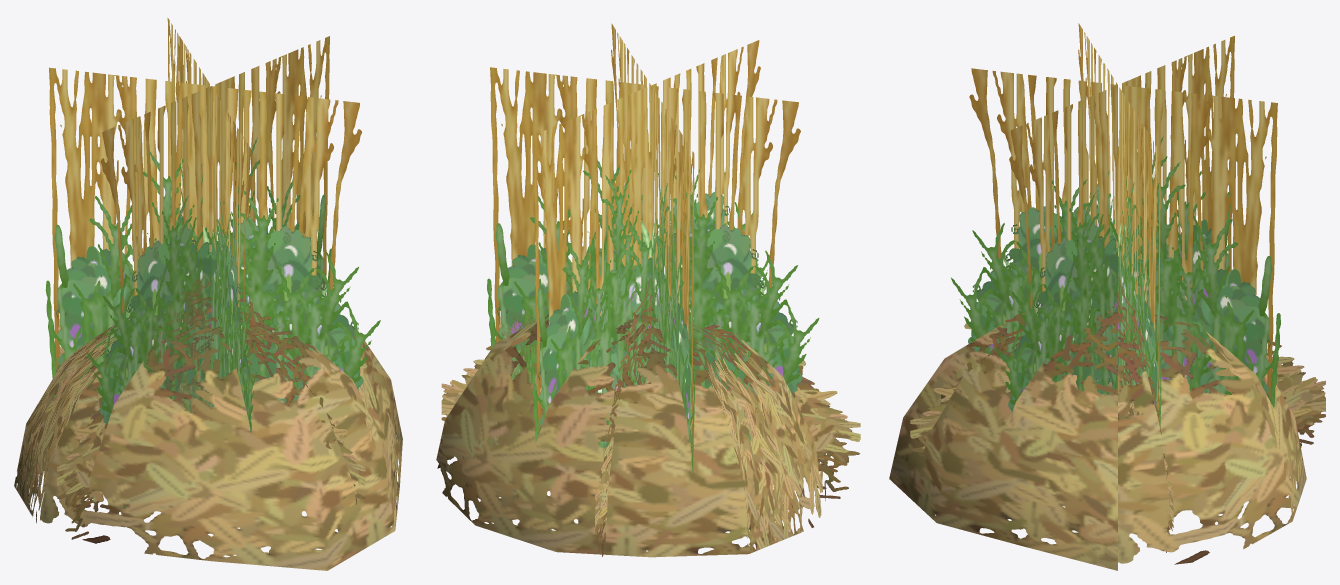
The model's file is crops.glb.
3 renders of one model, left to right at view 1: azimuth 30°, elevation 25°; view 2: azimuth 150°, elevation 25°; view 3: azimuth 270°, elevation 25°, orthographic.
Parts seen in each view (by area): view 1: pea-heap, crop-stubble, crop-green, crop-pea-green; view 2: pea-heap, crop-stubble, crop-green, crop-pea-green; view 3: pea-heap, crop-stubble, crop-green, crop-pea-green.
Part boxes in pixels (left/top/right/bottom): pea-heap: left=14, top=278, right=402, bottom=570; crop-stubble: left=49, top=18, right=361, bottom=372; crop-green: left=45, top=137, right=380, bottom=506; crop-pea-green: left=56, top=216, right=363, bottom=432; pea-heap: left=436, top=279, right=860, bottom=557; crop-stubble: left=490, top=23, right=800, bottom=463; crop-green: left=487, top=158, right=819, bottom=474; crop-pea-green: left=497, top=184, right=802, bottom=451; pea-heap: left=889, top=276, right=1325, bottom=570; crop-stubble: left=969, top=23, right=1277, bottom=421; crop-green: left=951, top=135, right=1280, bottom=427; crop-pea-green: left=968, top=184, right=1270, bottom=413.
Size of the model in its own units: 0.9796 by 1 by 1.
Materials: 1 (1 with a texture image).
